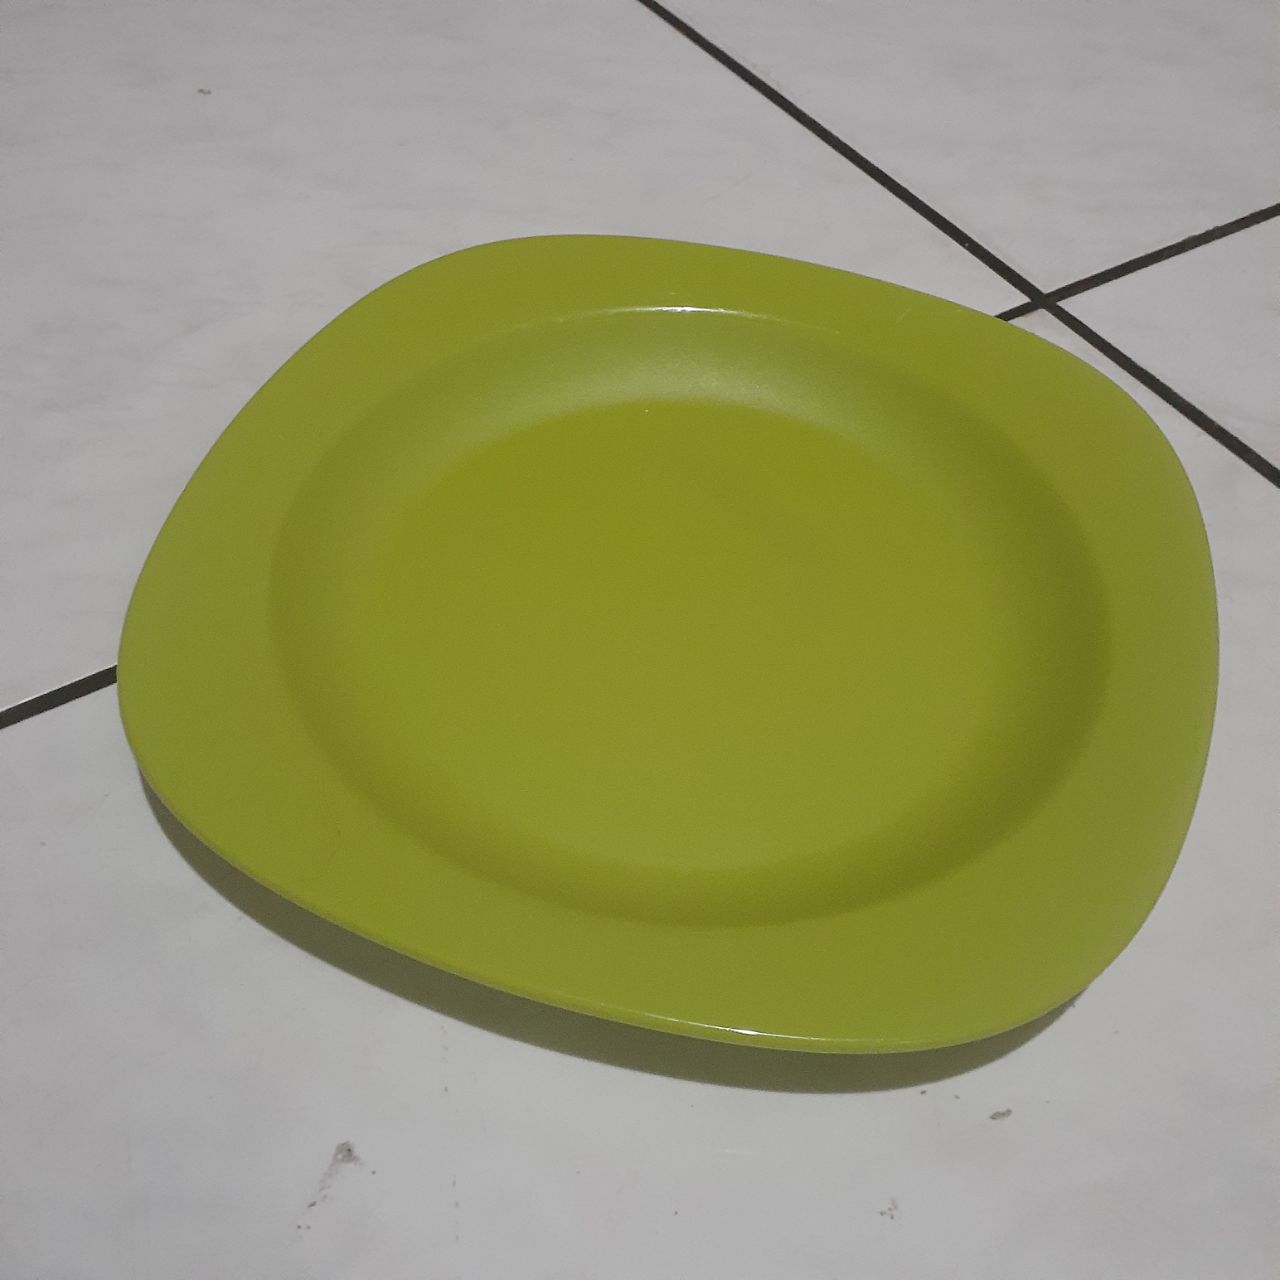piring: (122, 227, 1216, 1063)
